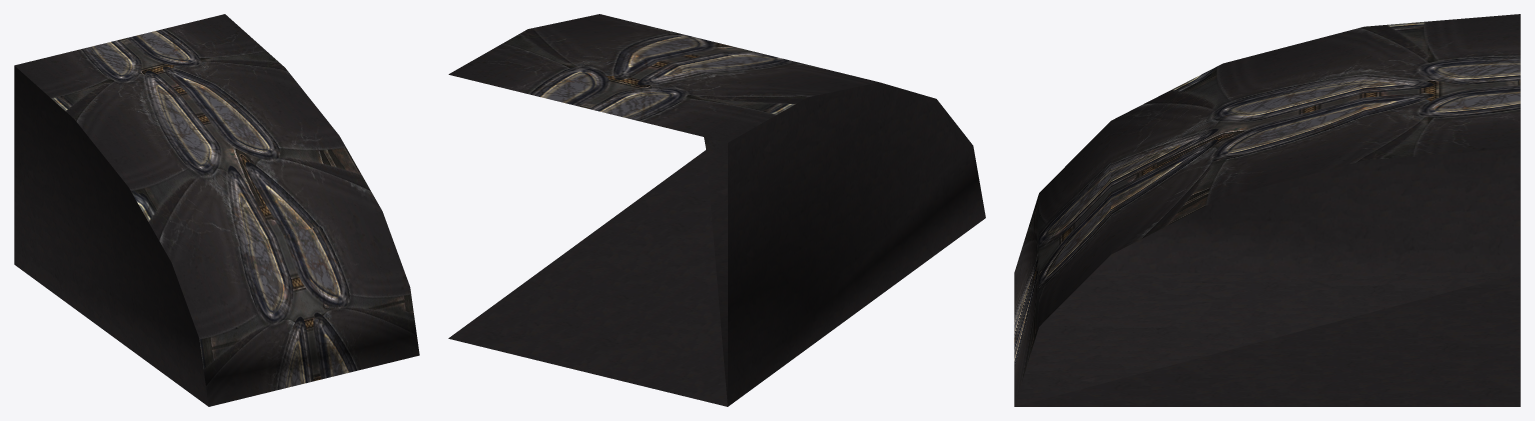
Rendered from CubeBaseFrontBackground11.fbx.
3 views of the same model, side by side, from view 1: azimuth 30°, elevation 25°; view 2: azimuth 150°, elevation 25°; view 3: azimuth 270°, elevation 25° (orthographic). The views are drawn at different scales.
Visible parts, largest first — view 1: polySurface88; view 2: polySurface88; view 3: polySurface88.
Boxes of the visible parts, x1=… form: polySurface88: x1=14, y1=14, x2=419, y2=406; polySurface88: x1=448, y1=14, x2=985, y2=406; polySurface88: x1=1014, y1=14, x2=1520, y2=406.
Size of the model in its own units: 1 by 0.9021 by 1.6.
Materials: 1 (1 with a texture image).
